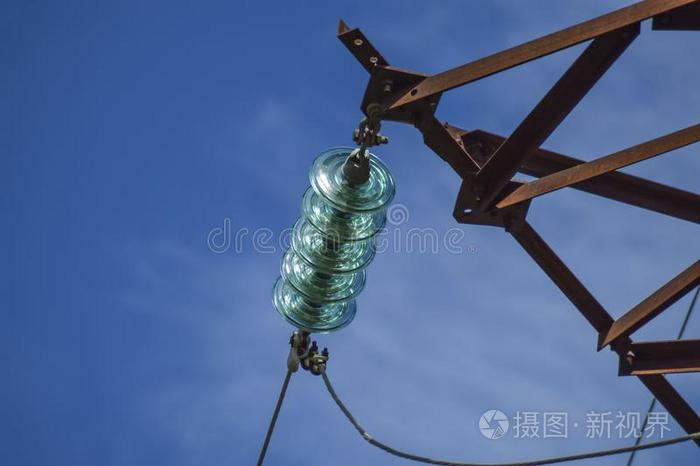insulator: (270, 147, 398, 336)
